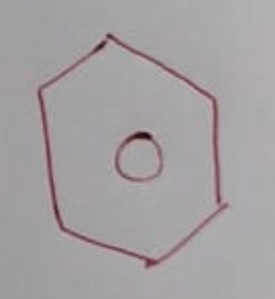shape_mask: (31, 26, 242, 277)
